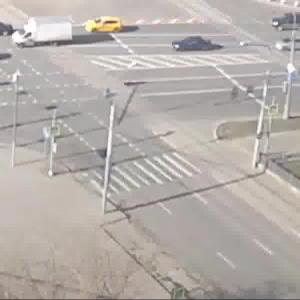car: (5, 16, 76, 51), (89, 10, 126, 34), (172, 37, 213, 54), (273, 15, 300, 32), (273, 36, 300, 52)
